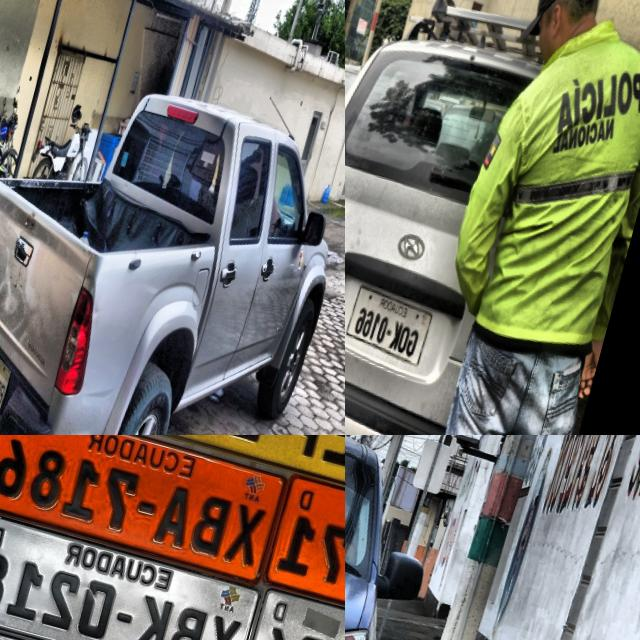license_plate: (0, 435, 288, 585), (0, 513, 260, 640), (101, 435, 345, 498), (258, 469, 345, 640), (345, 280, 435, 370), (0, 355, 12, 409)
